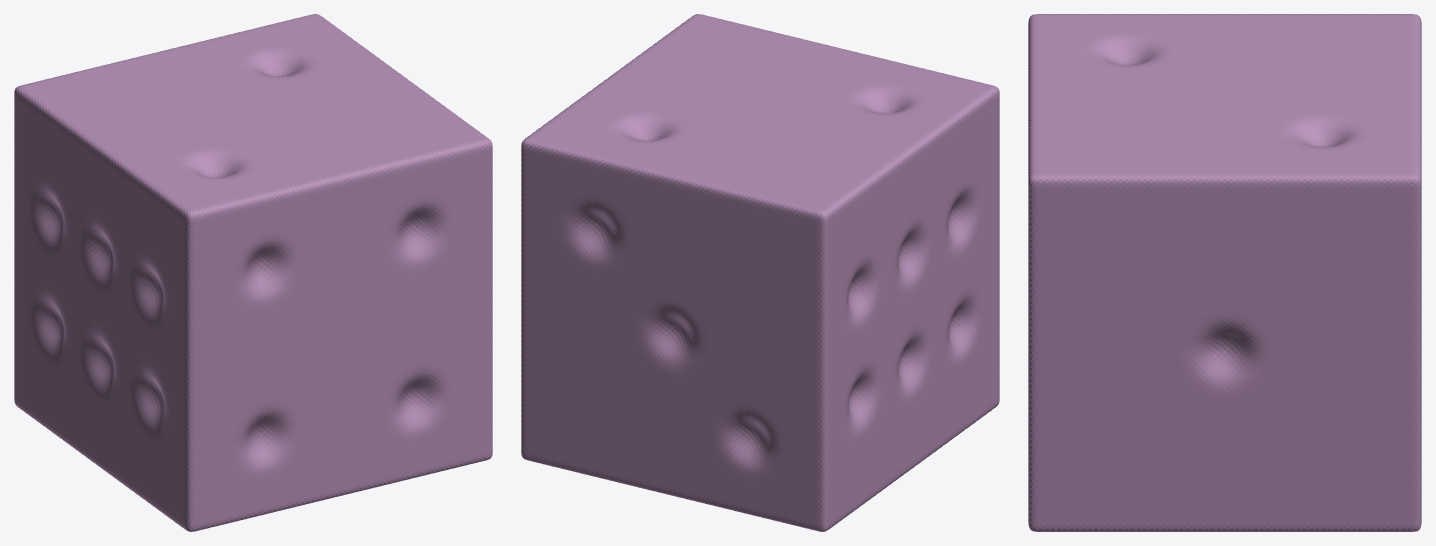
File: Dice.fbx
The picture shows the model from 3 angles, left to right: view 1: azimuth 30°, elevation 25°; view 2: azimuth 150°, elevation 25°; view 3: azimuth 270°, elevation 25°; orthographic projection. The views are drawn at different scales.
Visible parts, largest first — view 1: Cube; view 2: Cube; view 3: Cube.
Part boxes in pixels (left/top/right/bottom): Cube: left=14, top=14, right=492, bottom=531; Cube: left=521, top=14, right=999, bottom=531; Cube: left=1028, top=14, right=1421, bottom=531.
Size of the model in its own units: 167 by 167 by 167.
